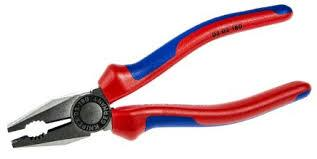pliers: (5, 3, 310, 148)
